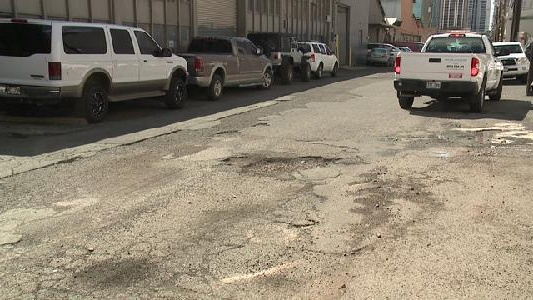pothole: (241, 151, 340, 174), (217, 153, 246, 169), (470, 123, 505, 134)
